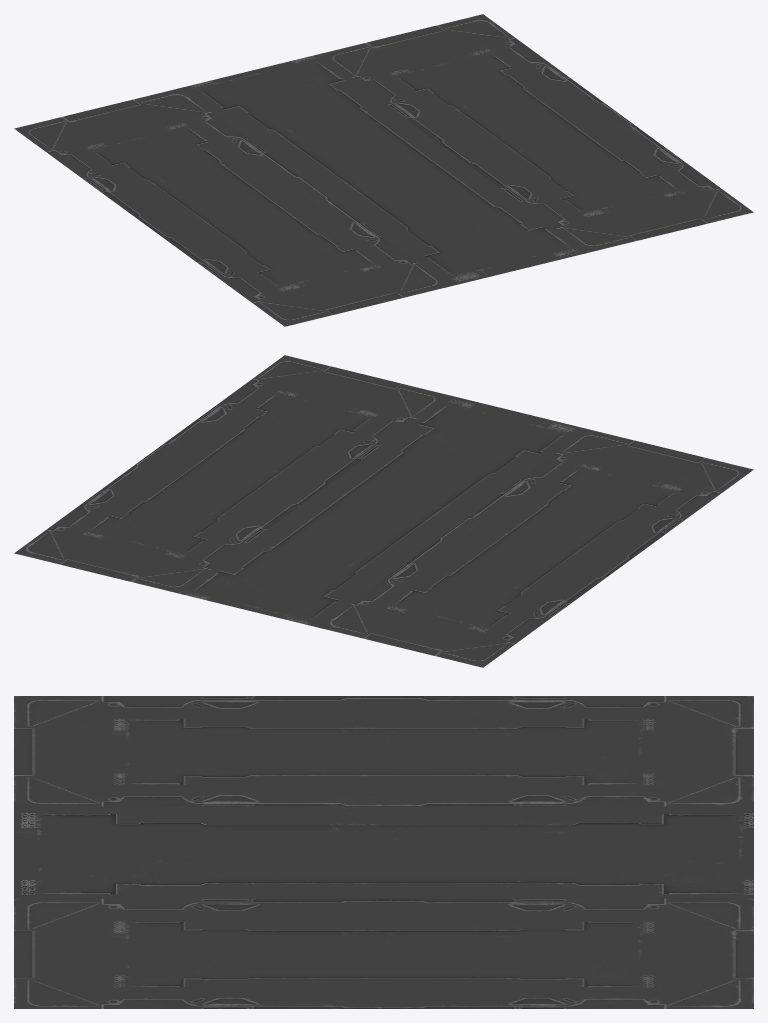
Rendered from Platform_DarkPlates.glb.
3 renders of one model, top to bottom at view 1: azimuth 30°, elevation 25°; view 2: azimuth 150°, elevation 25°; view 3: azimuth 270°, elevation 25°, orthographic. The views are drawn at different scales.
Parts seen in each view (by area): view 1: Platform_DarkPlates; view 2: Platform_DarkPlates; view 3: Platform_DarkPlates.
Boxes of the visible parts, box(x1,y1,x2,y2) form: Platform_DarkPlates: box(14, 14, 753, 326); Platform_DarkPlates: box(14, 355, 753, 667); Platform_DarkPlates: box(14, 696, 753, 1008).
Bounding box in the file's own units: 4 × 0 × 4.
Materials: 1 (1 with a texture image).
